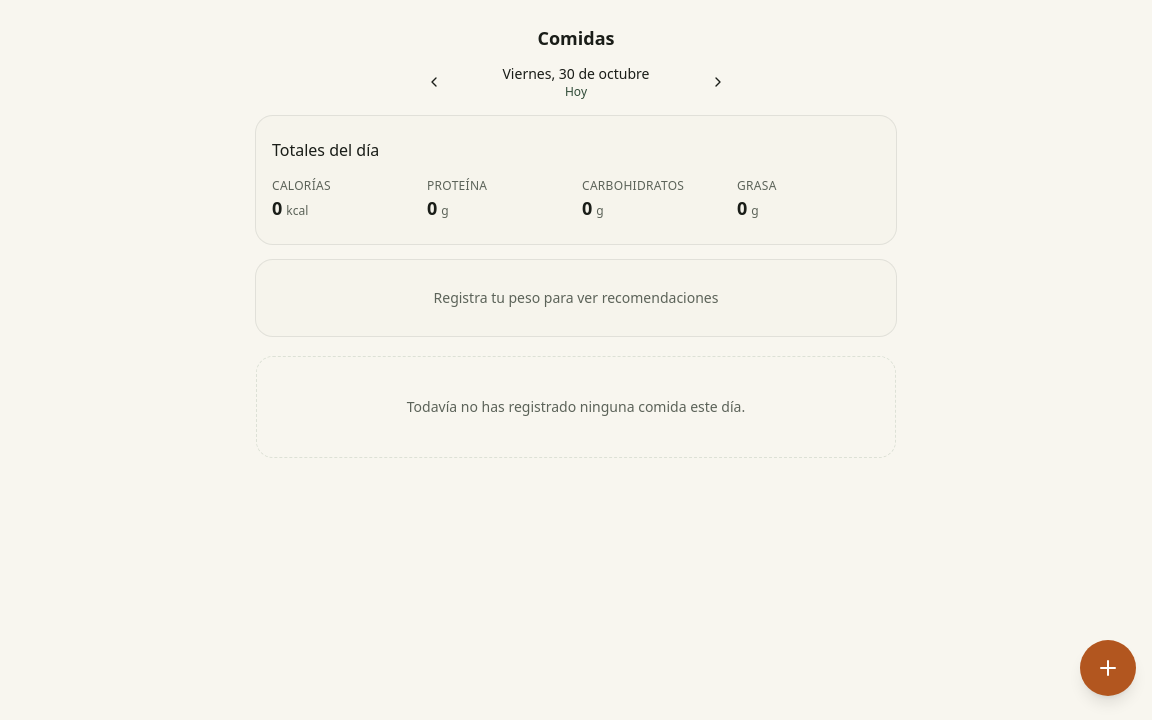
Scenario: Añadir comida: foto con IA › con solo texto (los datos de una etiqueta) estima sin foto
Expected: the button "Todavía no has registrado ninguna comida este día." is shown, [256,356,896,458]
Click the button named "Añadir comida" at (1108,668), box [1080,640,1136,696]
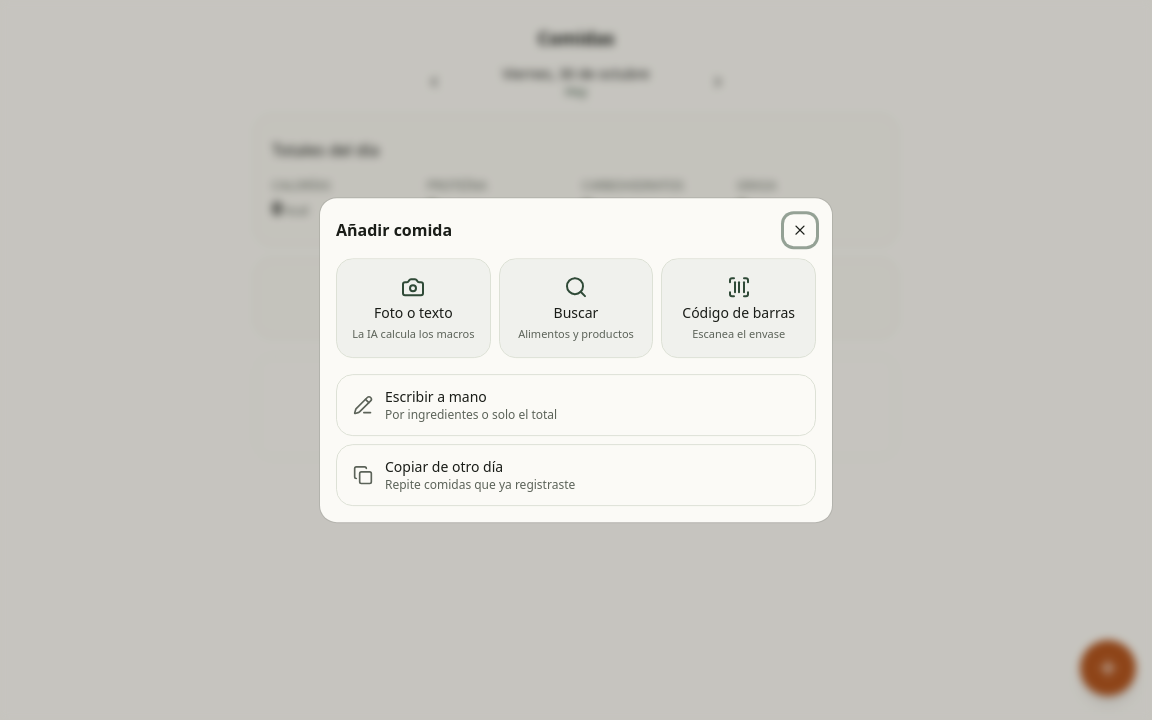
Click the button "Foto o texto La IA calcula los macros" at (413,308), box [336,258,491,358]
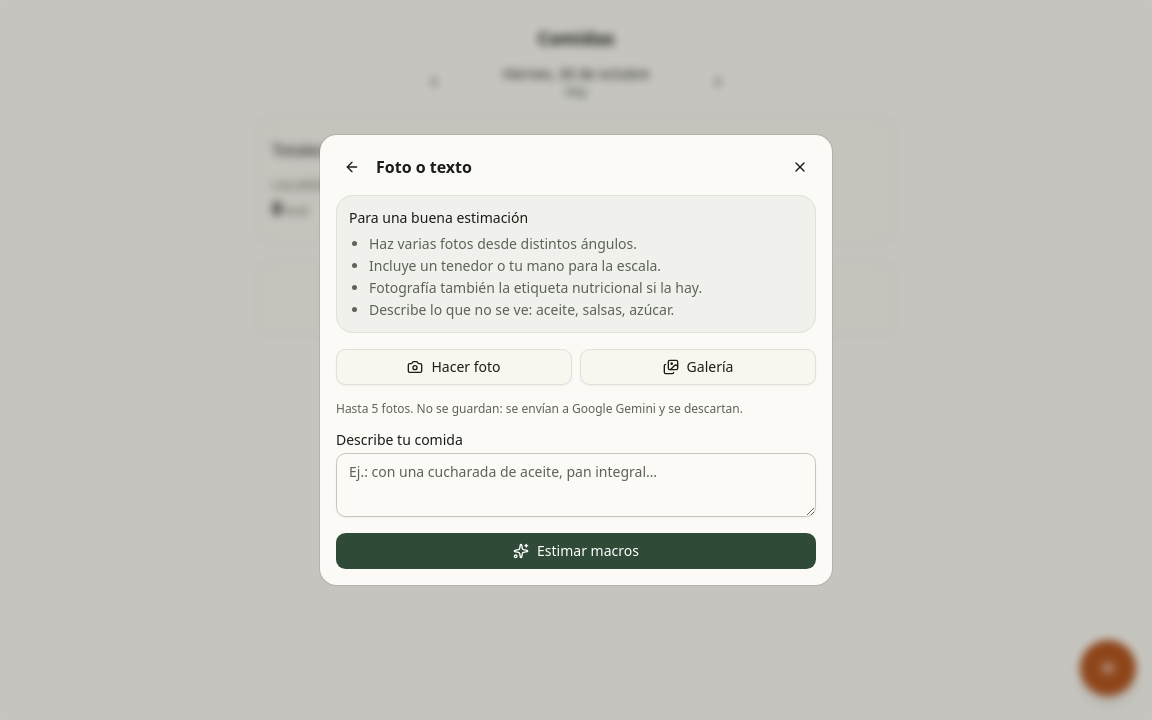
Type "Por 100 g: 555 kcal, 20 g proteína, 25 g grasa, 12 g carbohidratos. Peso total 350 g." into the text box labelled "Describe tu comida" at (576,485), box [336,453,816,517]
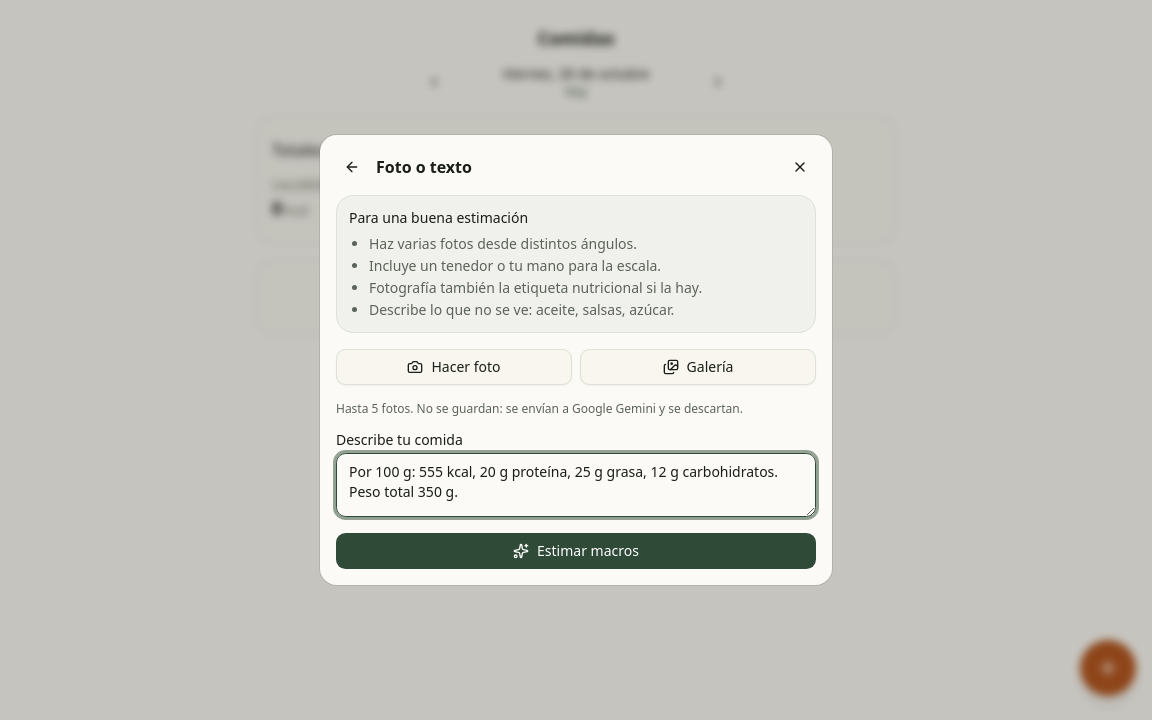
Click the button "Estimar macros" at (576,551), box [336,533,816,569]
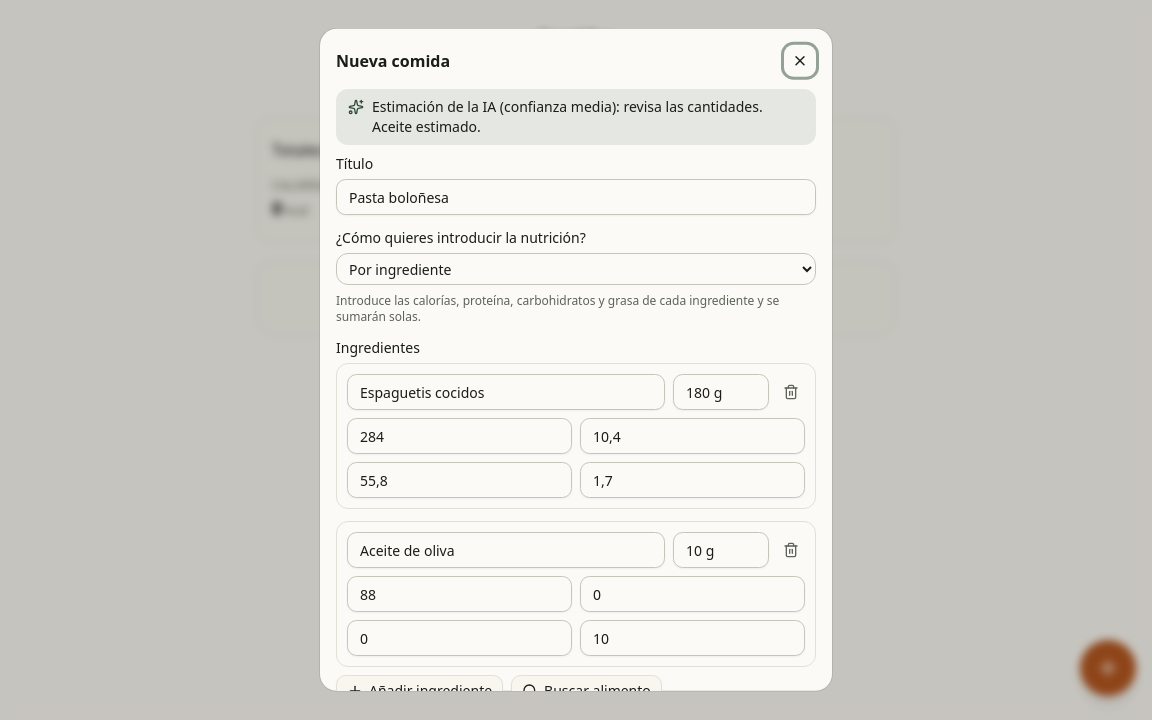
Result: the dialog "Nueva comida" is shown at [320,29,832,691]
